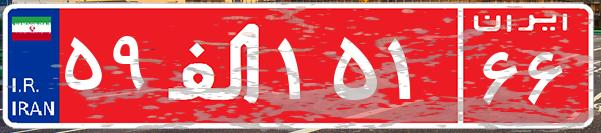1: (385, 28, 445, 110), (273, 28, 330, 110)
5: (330, 28, 385, 110), (57, 26, 110, 107)
6: (475, 38, 525, 113), (525, 38, 570, 115)
9: (110, 28, 158, 105)
الف: (158, 15, 273, 115)
